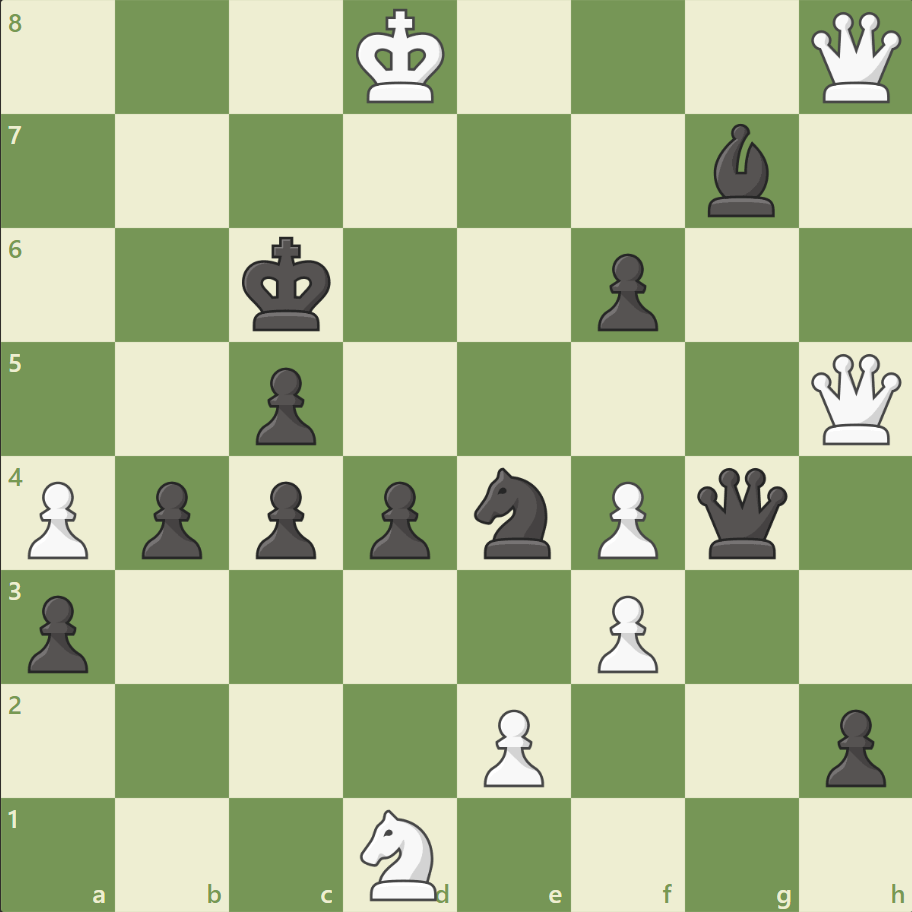K: (351, 4, 451, 112)
N: (351, 802, 449, 904)
P: (20, 473, 95, 564), (474, 700, 549, 791), (588, 473, 662, 564), (588, 586, 662, 677)
Q: (805, 349, 904, 449), (805, 9, 904, 108)
b: (698, 120, 782, 222)
k: (238, 231, 338, 339)
n: (465, 461, 562, 564)
p: (247, 359, 322, 450), (133, 473, 208, 564), (247, 473, 322, 564), (20, 586, 95, 677), (588, 246, 662, 337), (361, 473, 435, 564), (815, 700, 889, 791)
q: (691, 463, 790, 562)
